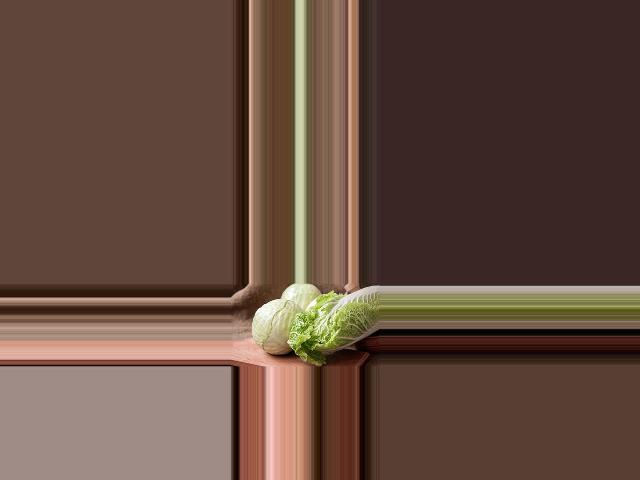lettuce: (287, 288, 378, 367)
